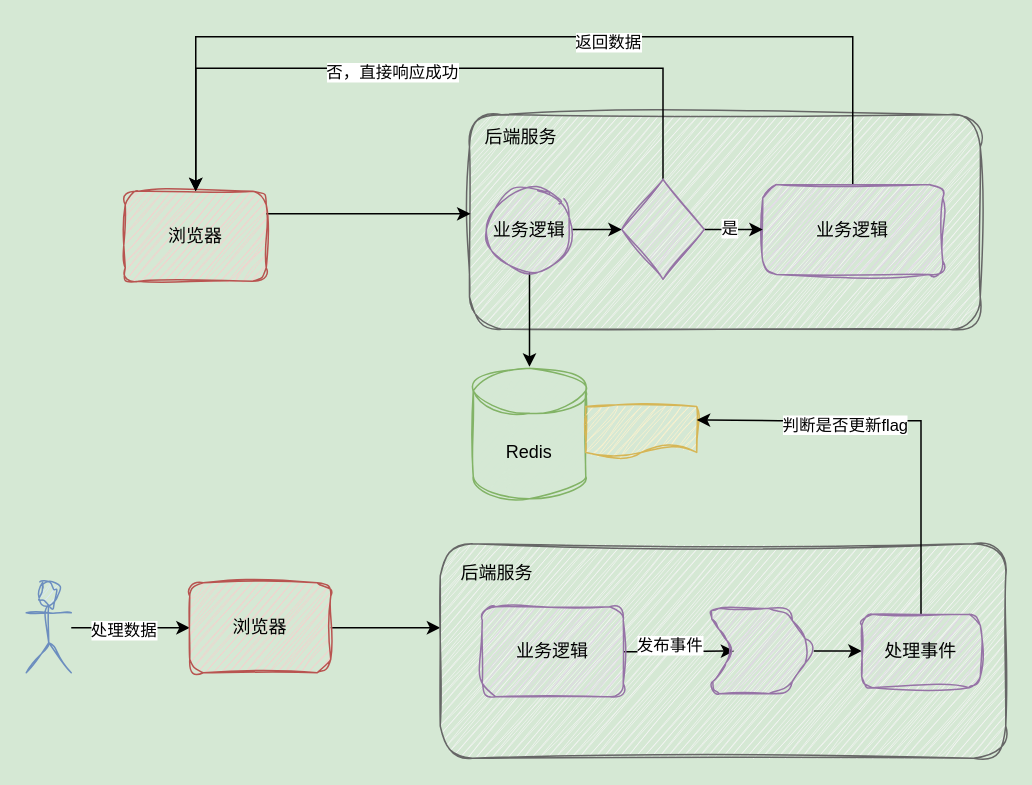
This 1032x785 diagram has some shape labels left out. The centre of each missing label's shape, as x and y in pixels:
"flag" belongs at (662,228).
"userId: flag" belongs at (640,432).
"事件" belongs at (758,650).
"用户" belongs at (48,627).
